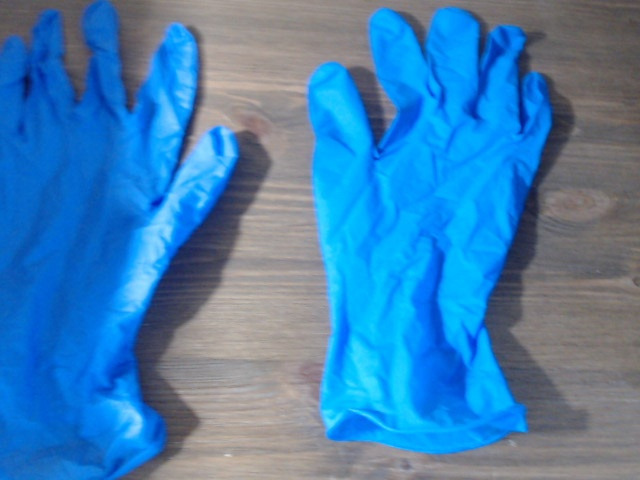medical_glove: (307, 6, 552, 448)
